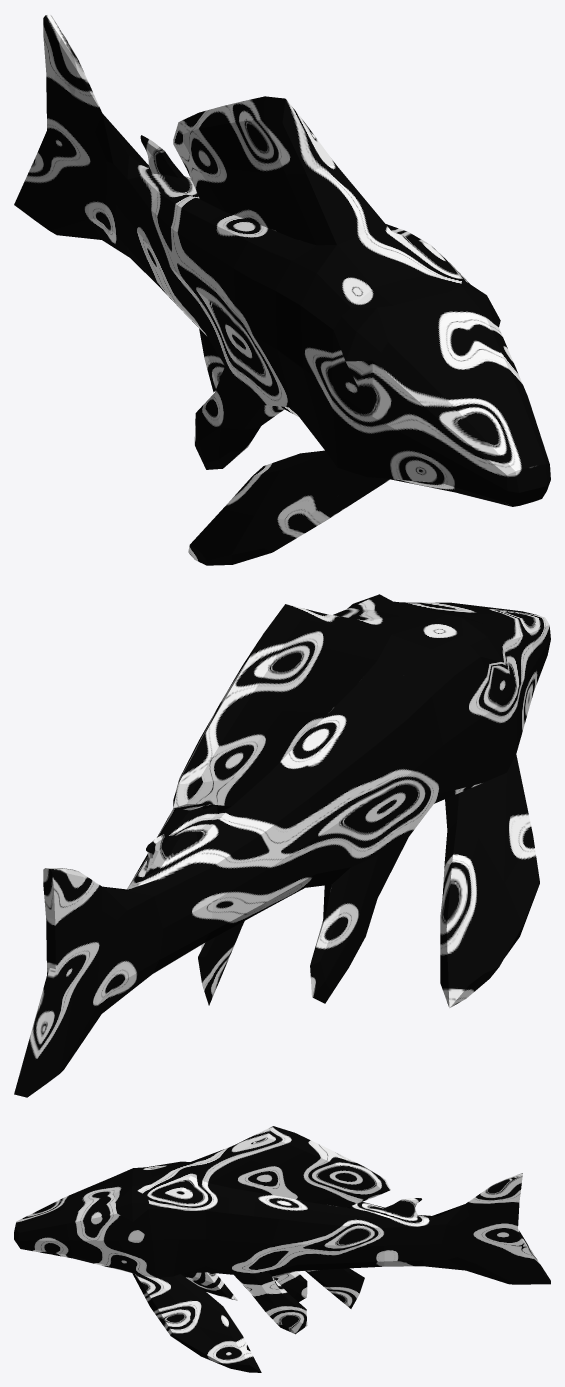
The model's file is BAGRE.fbx.
The picture shows the model from 3 angles, top to bottom: view 1: azimuth 30°, elevation 25°; view 2: azimuth 150°, elevation 25°; view 3: azimuth 270°, elevation 25°; orthographic projection. The views are drawn at different scales.
Visible parts, largest first — view 1: BAGRE; view 2: BAGRE; view 3: BAGRE.
Boxes of the visible parts, x1,y1,x2,y2 form: BAGRE: [14, 14, 550, 565]; BAGRE: [14, 594, 550, 1097]; BAGRE: [14, 1126, 550, 1372].
Bounding box in the file's own units: 0.4052 × 0.5071 × 1.18.
